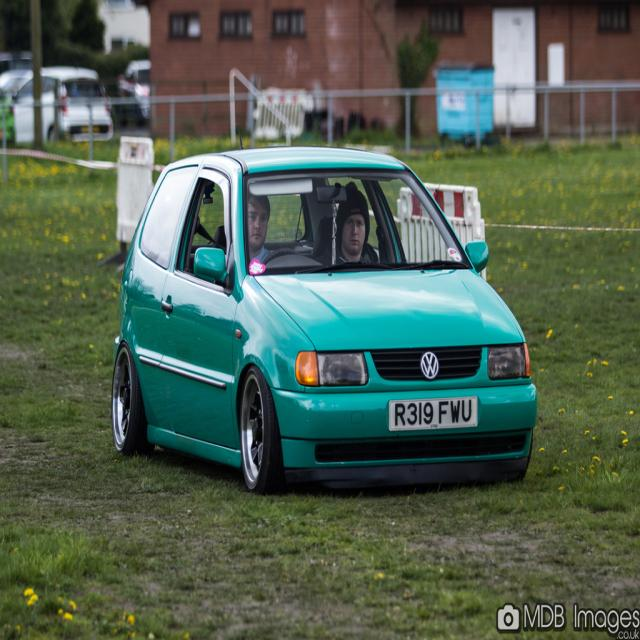car: (107, 142, 539, 491)
